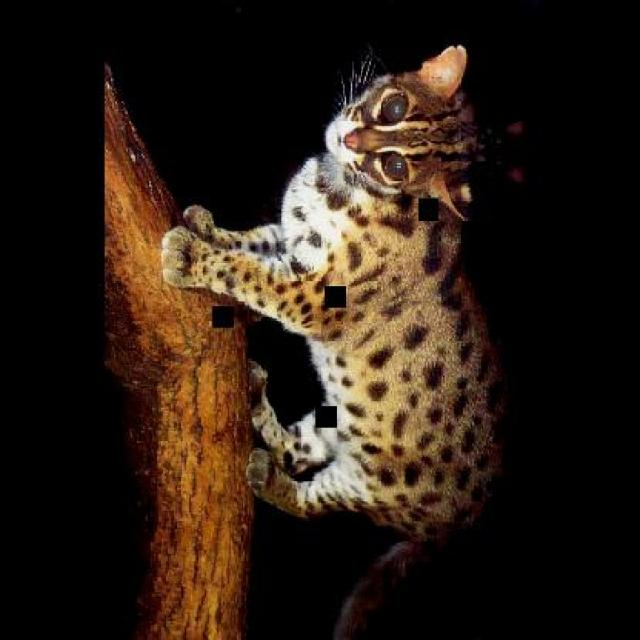unauthorized: (158, 41, 508, 638)
